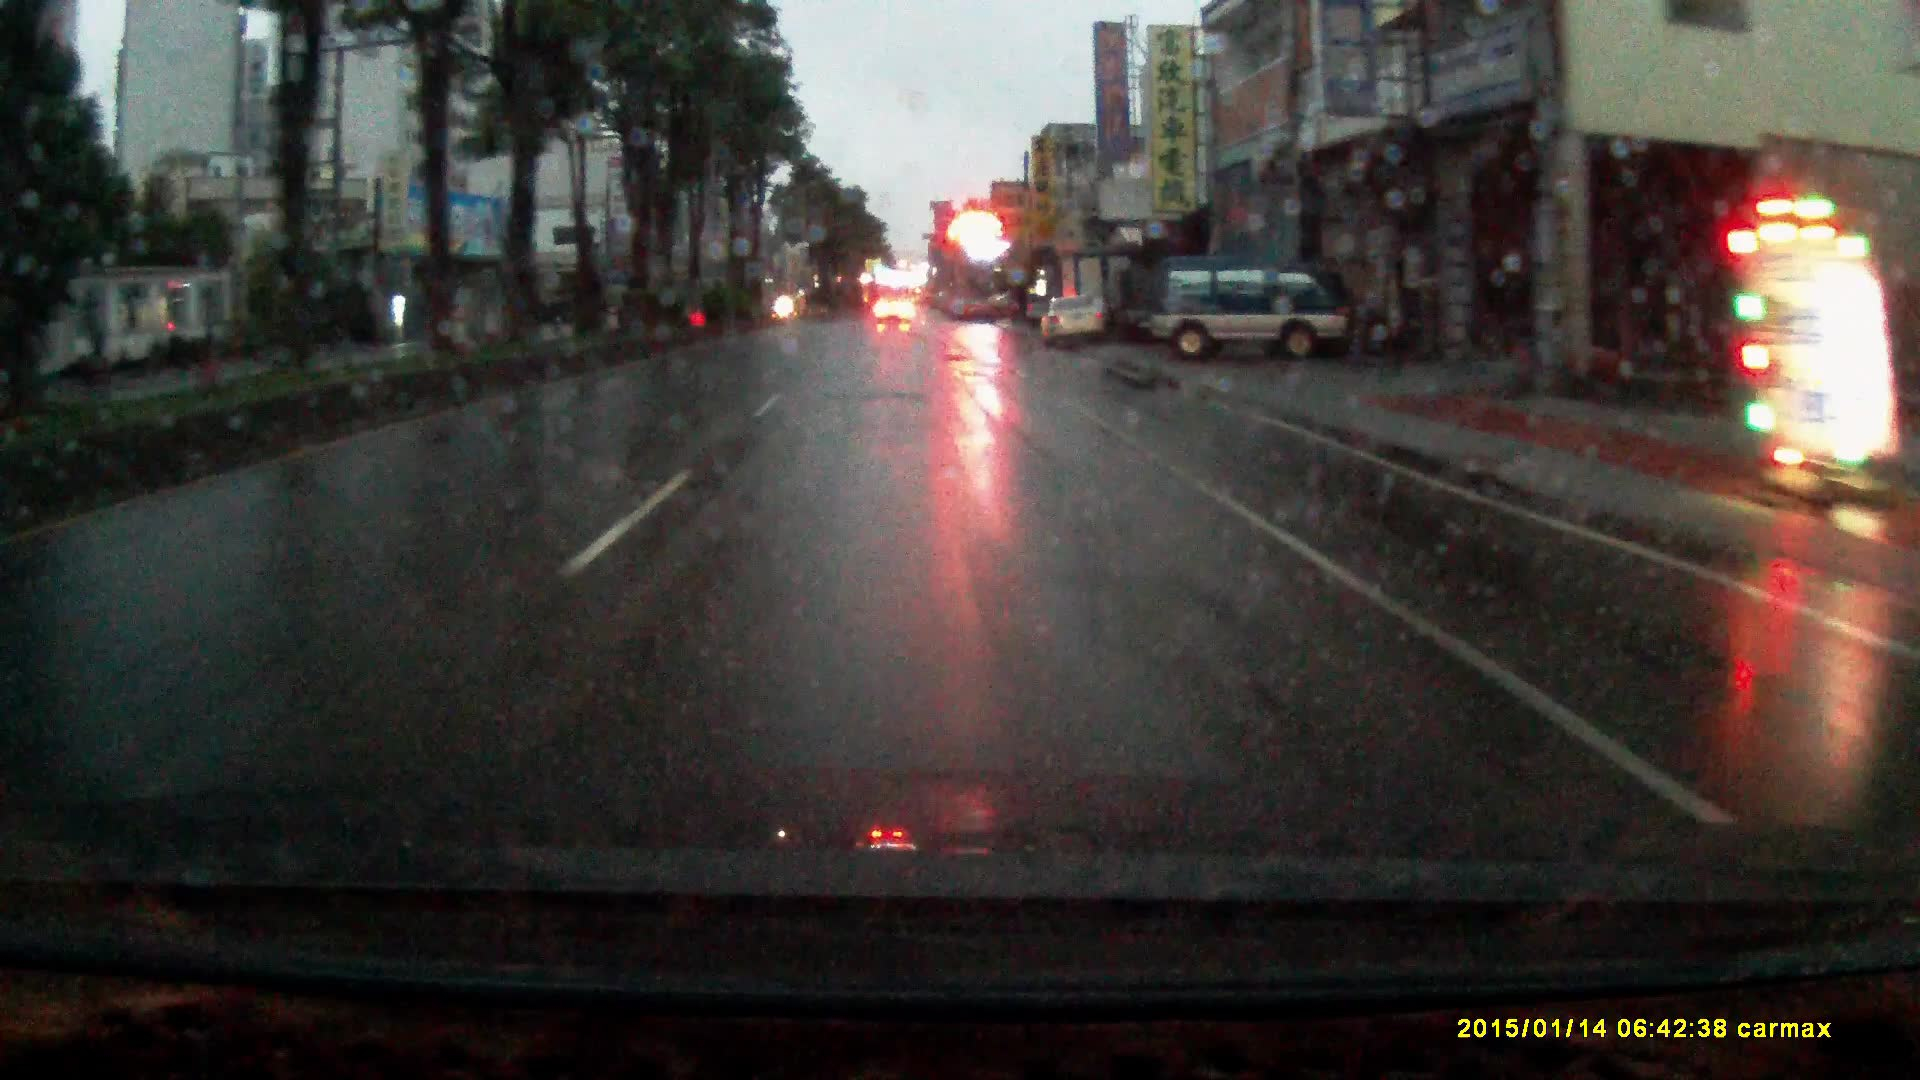vehicle: (1146, 253, 1371, 367), (1059, 248, 1135, 342), (1040, 293, 1106, 349), (876, 299, 914, 328)
